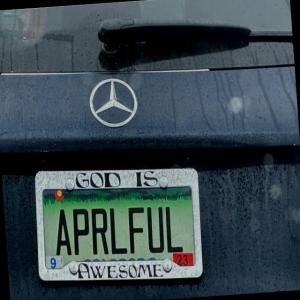Plate: (35, 166, 203, 283)
